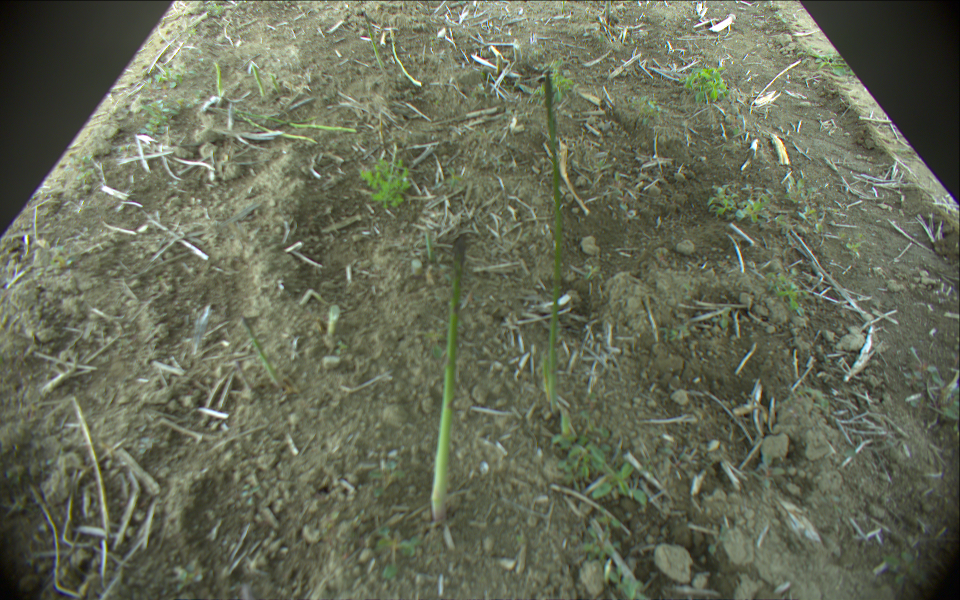aspa: (428, 233, 470, 518), (541, 69, 561, 411), (205, 104, 358, 135), (240, 320, 288, 387), (236, 111, 318, 147), (386, 22, 425, 87), (362, 14, 389, 80), (247, 62, 267, 100), (210, 60, 228, 101), (271, 76, 281, 95)
